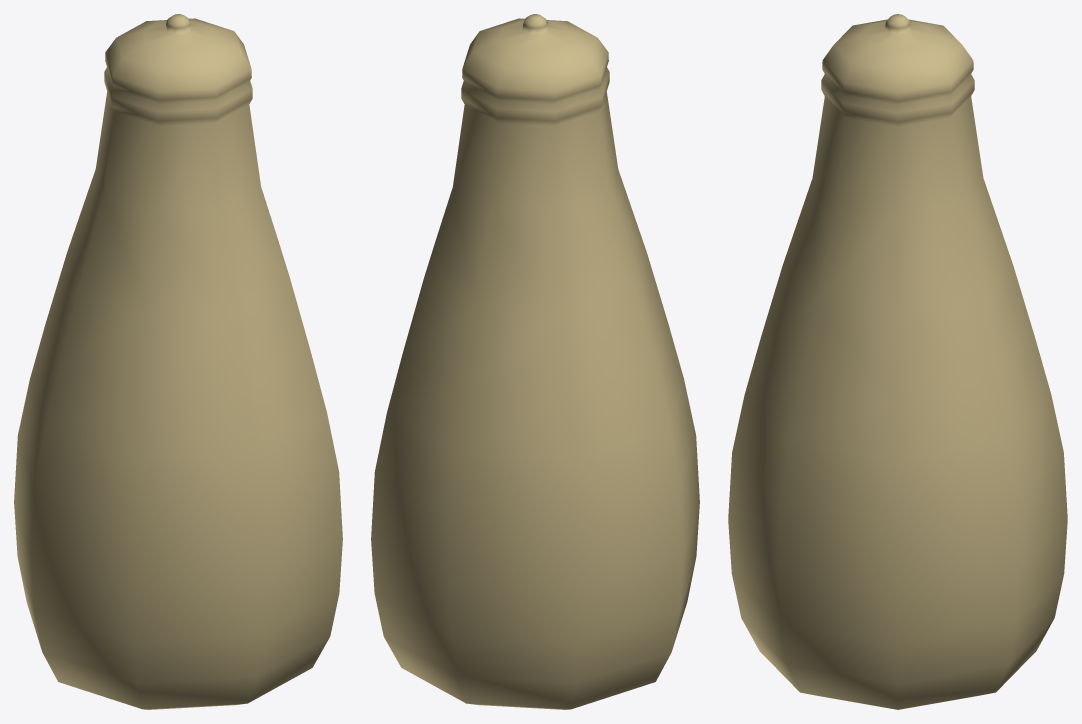
Rendered from FBX_jar02.fbx.
The picture shows the model from 3 angles, left to right: view 1: azimuth 30°, elevation 25°; view 2: azimuth 150°, elevation 25°; view 3: azimuth 270°, elevation 25°; orthographic projection.
Parts seen in each view (by area): view 1: Jar_02; view 2: Jar_02; view 3: Jar_02.
Part boxes in pixels (left/top/right/bottom): Jar_02: left=14, top=14, right=342, bottom=709; Jar_02: left=371, top=14, right=699, bottom=709; Jar_02: left=728, top=14, right=1067, bottom=709.
Size of the model in its own units: 1.43 by 3 by 1.43.
